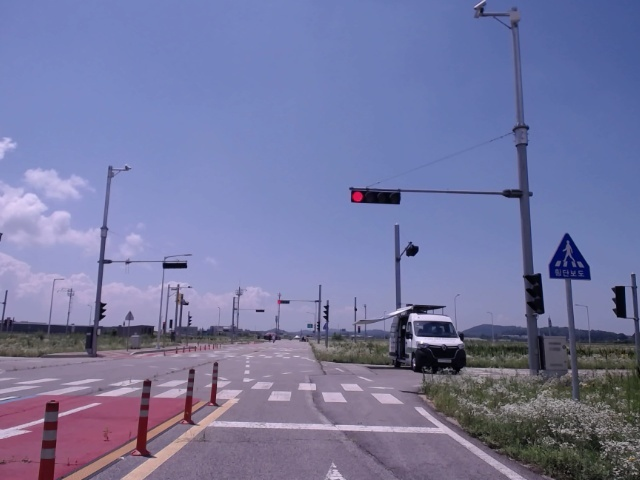red_4: (351, 190, 400, 204)
